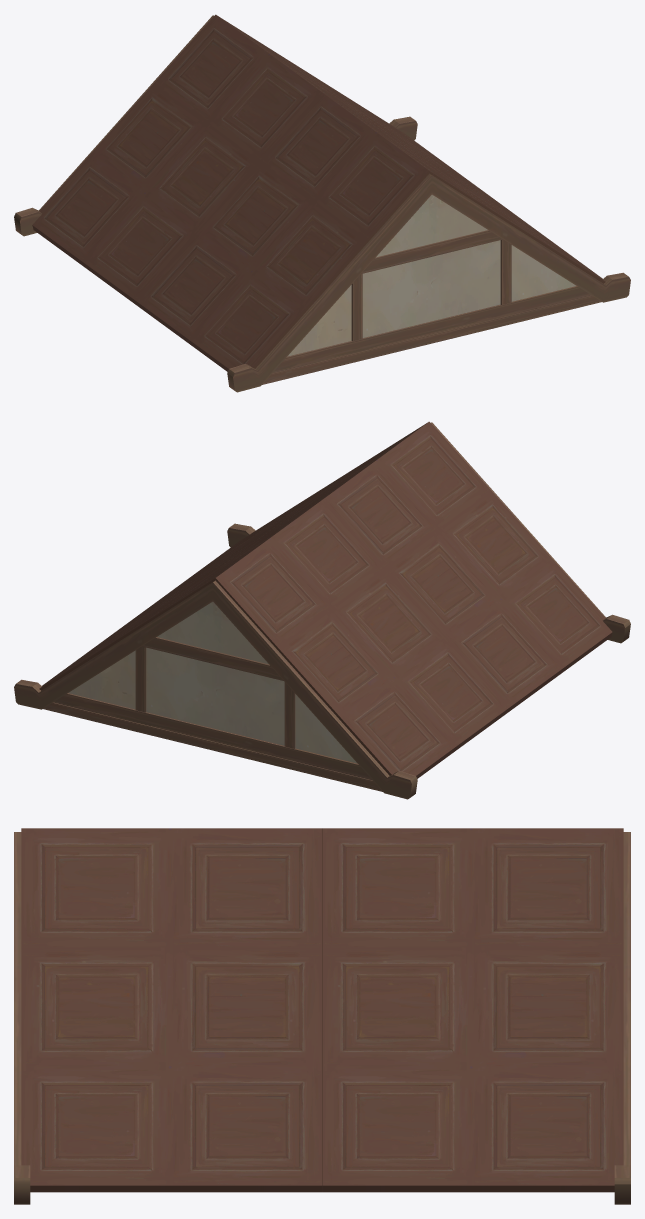
Rendered from Homeworld_Interior_Md_Room_N_Ceiling_01_Vo.fbx.
3 renders of one model, top to bottom at view 1: azimuth 30°, elevation 25°; view 2: azimuth 150°, elevation 25°; view 3: azimuth 270°, elevation 25°, orthographic. The views are drawn at different scales.
Visible parts, largest first — view 1: Homeworld_Interior_Md_Room_Ceiling_02_Vo (×2), Homeworld_Interior_Md_Room_Ceiling_01_Vo (×2); view 2: Homeworld_Interior_Md_Room_Ceiling_02_Vo (×2), Homeworld_Interior_Md_Room_Ceiling_01_Vo (×2); view 3: Homeworld_Interior_Md_Room_Ceiling_02_Vo (×2), Homeworld_Interior_Md_Room_Ceiling_01_Vo (×2).
Boxes of the visible parts, x1,y1,x2,y2 form: Homeworld_Interior_Md_Room_Ceiling_02_Vo (×2): [32, 14, 605, 371]; Homeworld_Interior_Md_Room_Ceiling_01_Vo (×2): [14, 15, 630, 392]; Homeworld_Interior_Md_Room_Ceiling_02_Vo (×2): [39, 421, 612, 778]; Homeworld_Interior_Md_Room_Ceiling_01_Vo (×2): [14, 422, 630, 799]; Homeworld_Interior_Md_Room_Ceiling_02_Vo (×2): [21, 828, 623, 1192]; Homeworld_Interior_Md_Room_Ceiling_01_Vo (×2): [14, 832, 630, 1204].
Bounding box in the file's own units: 10.75 × 4.44 × 10.24.
